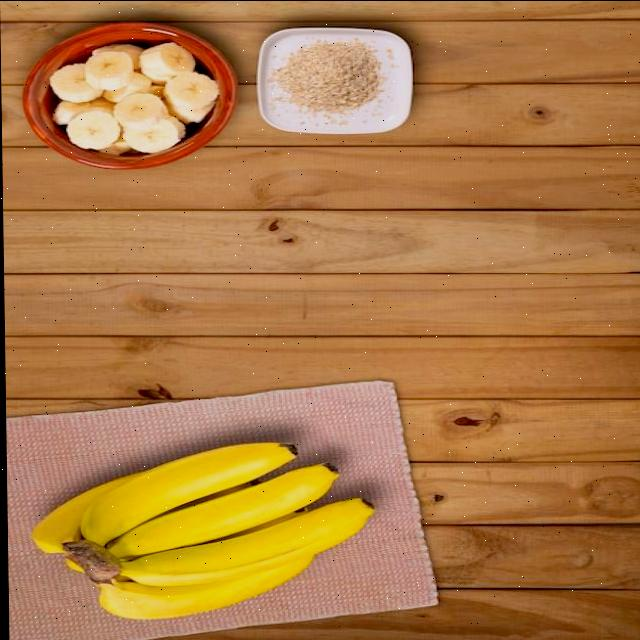banana: (24, 434, 385, 622)
